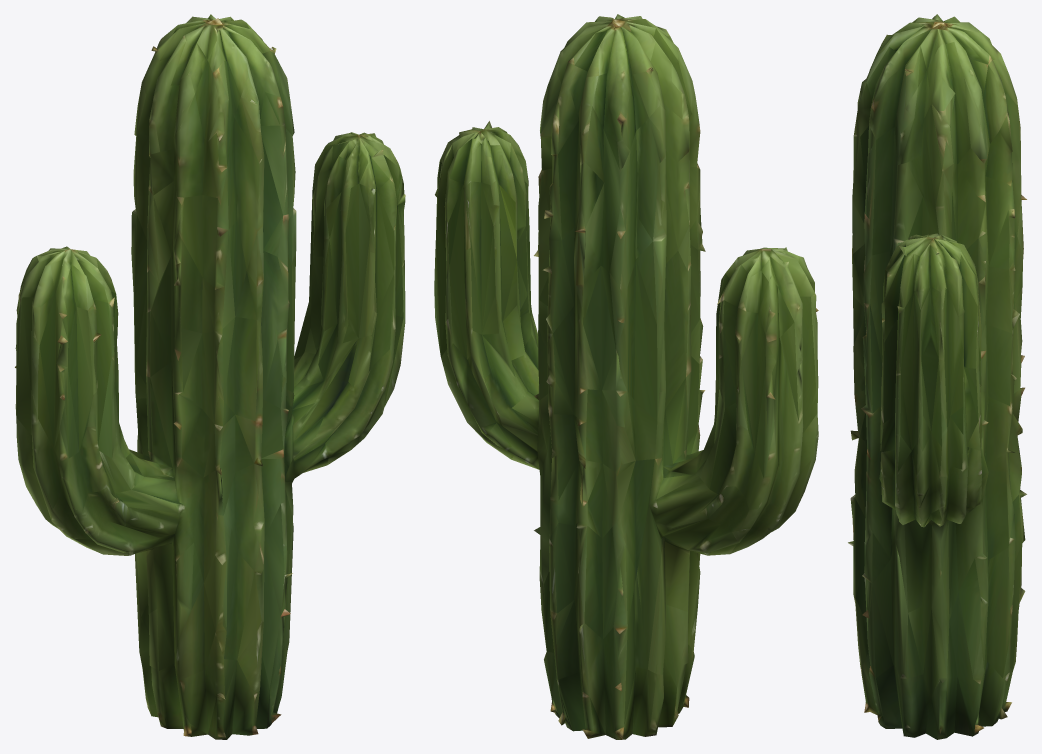
File: gnd_desert_cactus.fbx
3 views of the same model, side by side, from view 1: azimuth 30°, elevation 25°; view 2: azimuth 150°, elevation 25°; view 3: azimuth 270°, elevation 25° (orthographic).
Parts seen in each view (by area): view 1: gnd_desert_cactus_LOD0; view 2: gnd_desert_cactus_LOD0; view 3: gnd_desert_cactus_LOD0.
Part boxes in pixels (bbox=[...]): gnd_desert_cactus_LOD0: bbox=[15, 14, 405, 739]; gnd_desert_cactus_LOD0: bbox=[434, 14, 818, 739]; gnd_desert_cactus_LOD0: bbox=[848, 14, 1026, 739].
Size of what is drawn, in the model's own units: 0.5494 by 0.9785 by 0.2309.
